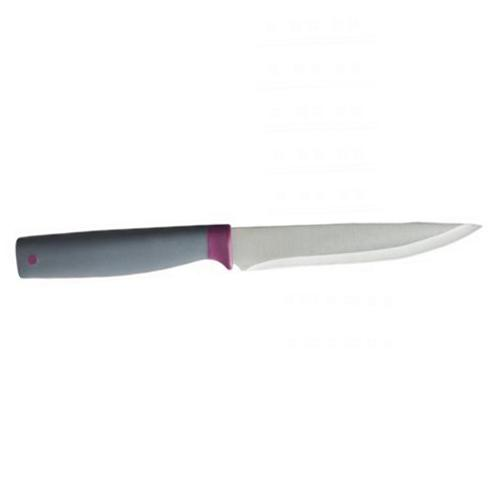knife: (15, 222, 487, 281)
